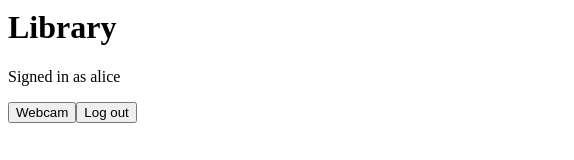
log out posts and returns to login
Click the button "Log out" at (107,112), box top-left (76, 102), bottom-right (137, 123)
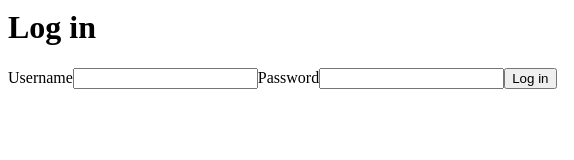
expect the button "Log in" is shown: met, box top-left (504, 68), bottom-right (556, 89)
